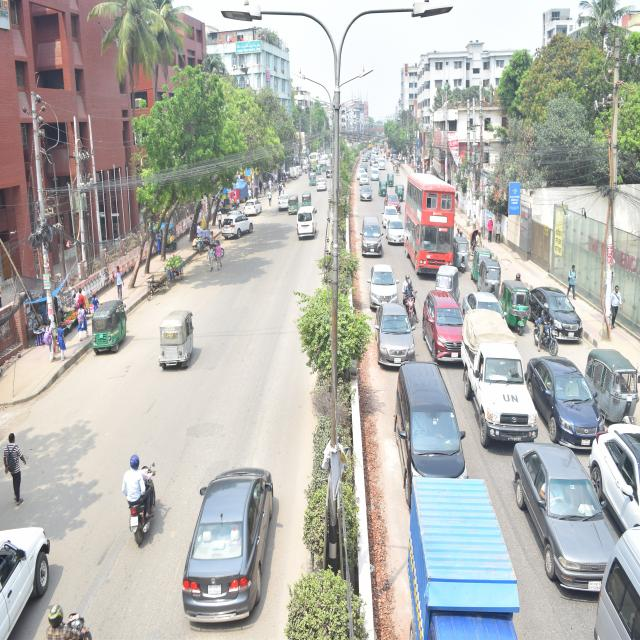bus: (405, 174, 460, 285)
car: (508, 440, 616, 598), (178, 462, 280, 628), (524, 351, 603, 449), (0, 525, 53, 640), (590, 419, 640, 534), (531, 282, 583, 348), (376, 299, 416, 374), (368, 260, 396, 310), (386, 217, 406, 256), (276, 193, 290, 216), (248, 198, 262, 220), (384, 203, 399, 222), (361, 183, 372, 206), (372, 166, 379, 183), (361, 170, 366, 186)
microbus: (389, 360, 471, 490), (459, 331, 538, 446), (599, 522, 639, 640), (422, 292, 463, 366), (359, 217, 383, 260), (222, 214, 256, 241), (296, 206, 320, 239)
motorbike: (128, 460, 160, 551)
pickup-van: (406, 477, 526, 640)
